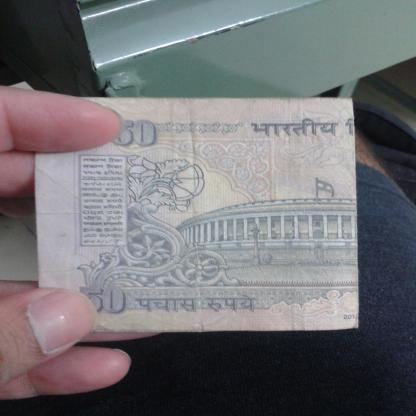Old50Back: (33, 96, 361, 332)
